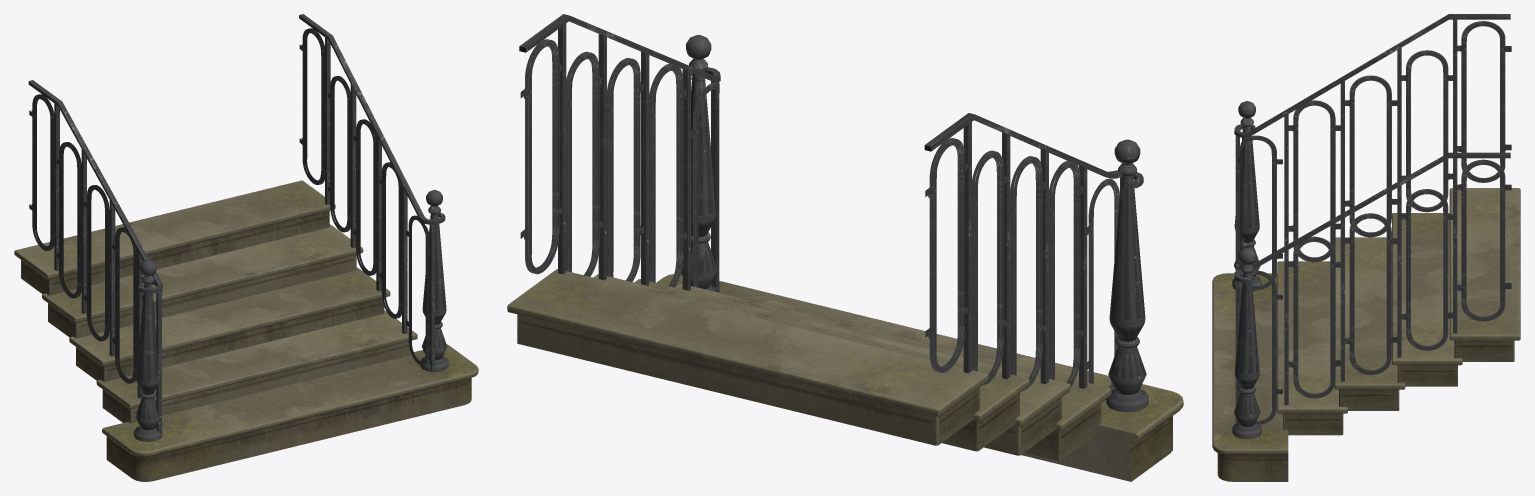
The model's file is Porch_04.fbx.
The picture shows the model from 3 angles, left to right: view 1: azimuth 30°, elevation 25°; view 2: azimuth 150°, elevation 25°; view 3: azimuth 270°, elevation 25°; orthographic projection. The views are drawn at different scales.
Parts seen in each view (by area): view 1: Porch_04_LOD0; view 2: Porch_04_LOD0; view 3: Porch_04_LOD0.
Part boxes in pixels (<box>): Porch_04_LOD0: <box>14,14,478,481</box>; Porch_04_LOD0: <box>507,14,1183,481</box>; Porch_04_LOD0: <box>1212,14,1520,481</box>.
Size of what is drawn, in the model's own units: 208 by 170 by 153.
